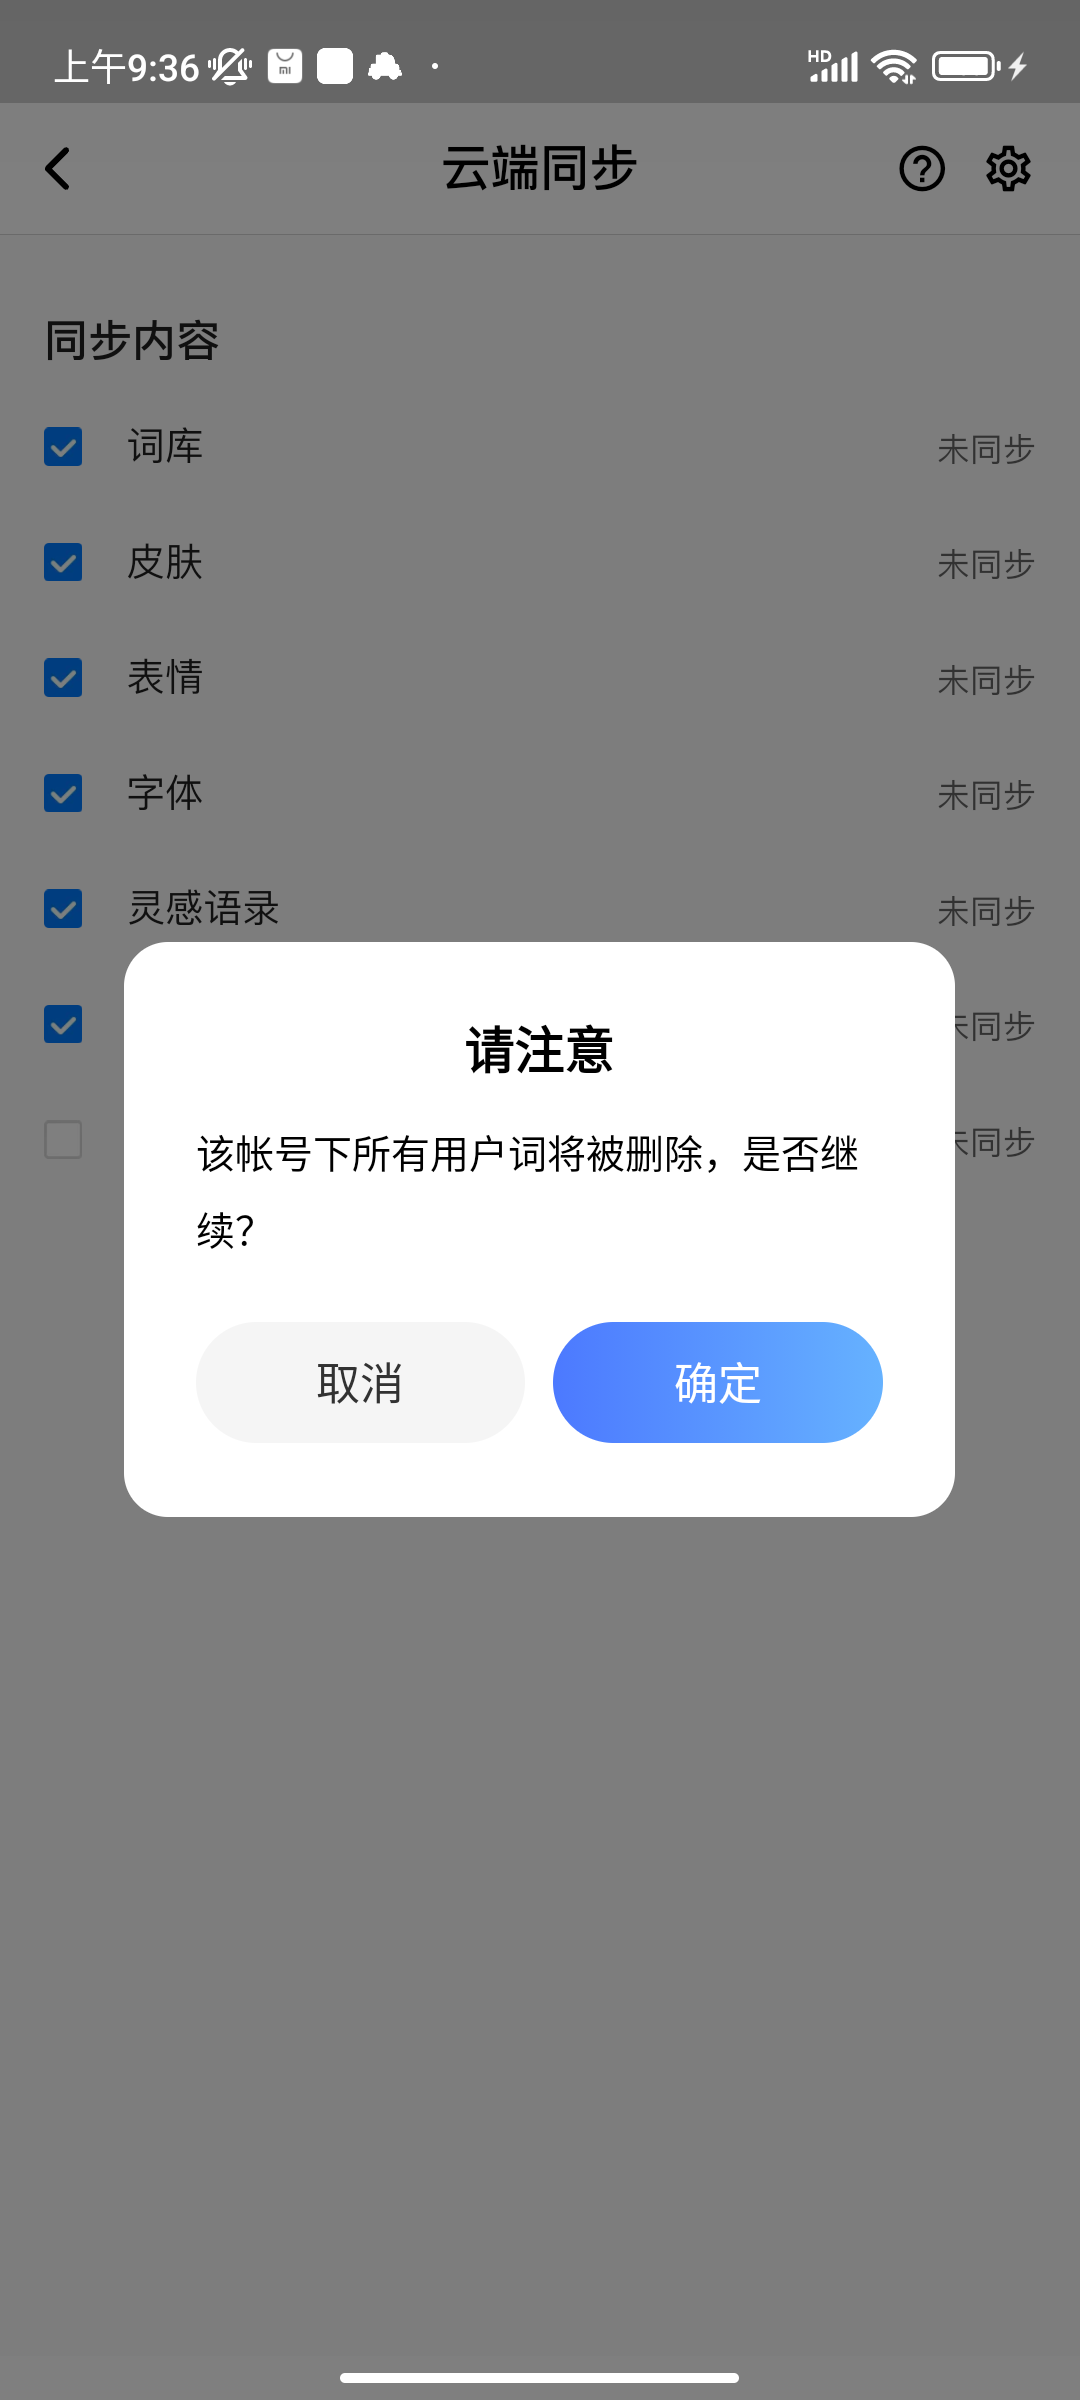ui_group: (121, 944, 956, 1518)
